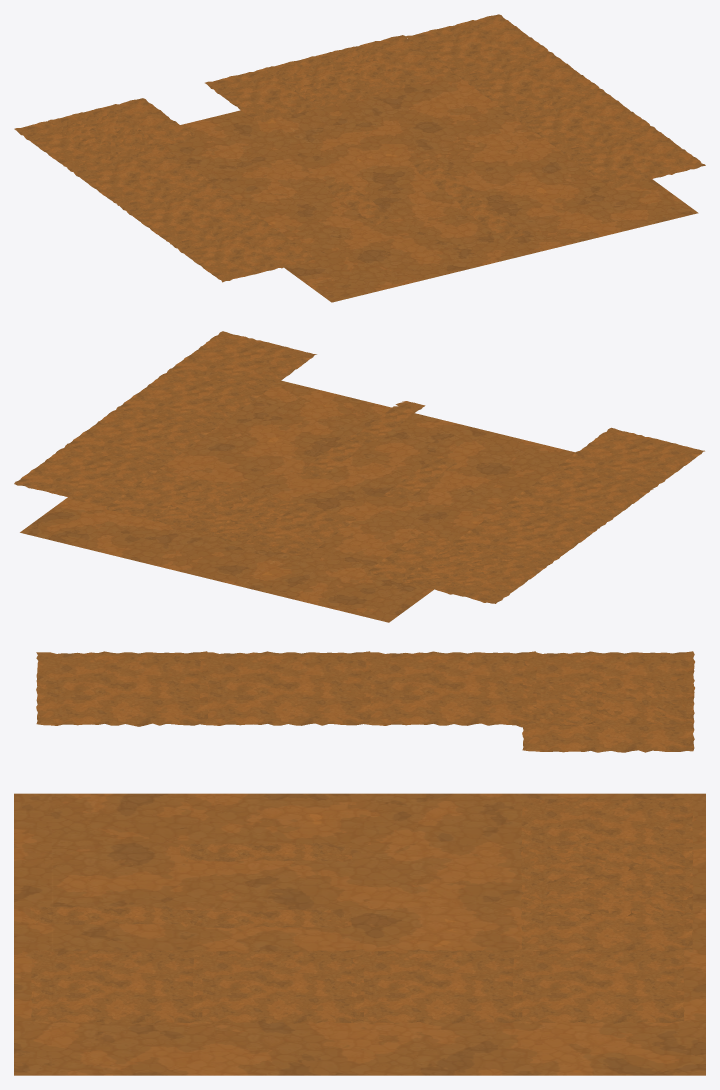
Rendered from Floor_Ruin2.fbx.
The picture shows the model from 3 angles, top to bottom: view 1: azimuth 30°, elevation 25°; view 2: azimuth 150°, elevation 25°; view 3: azimuth 270°, elevation 25°; orthographic projection. The views are drawn at different scales.
Parts seen in each view (by area): view 1: UpperFloor; view 2: UpperFloor; view 3: UpperFloor.
Part boxes in pixels (x1,y1,x2,y2): UpperFloor: (14, 14, 705, 302); UpperFloor: (14, 331, 704, 622); UpperFloor: (14, 651, 705, 1075).
Bounding box in the file's own units: 5057 × 411 × 3985.
